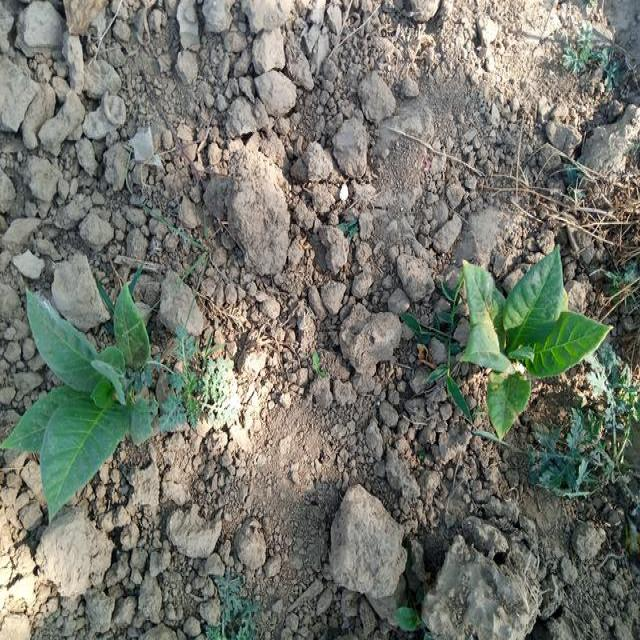crop: (10, 272, 184, 491), (452, 239, 606, 426)
